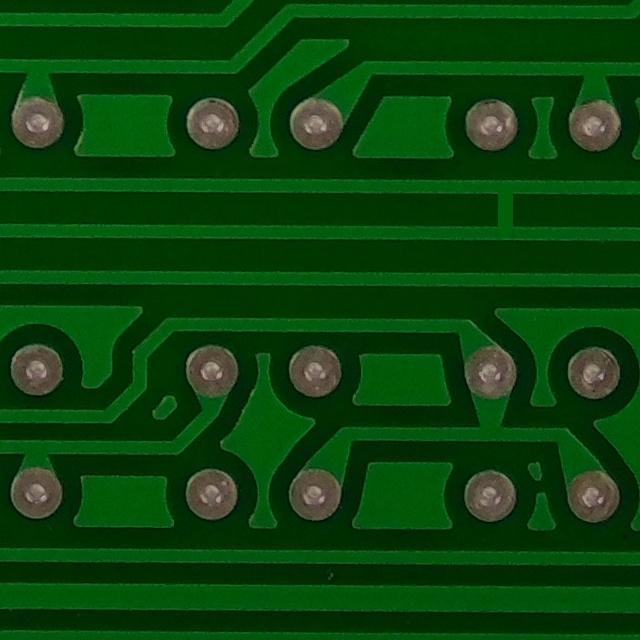short: (480, 172, 538, 254)
